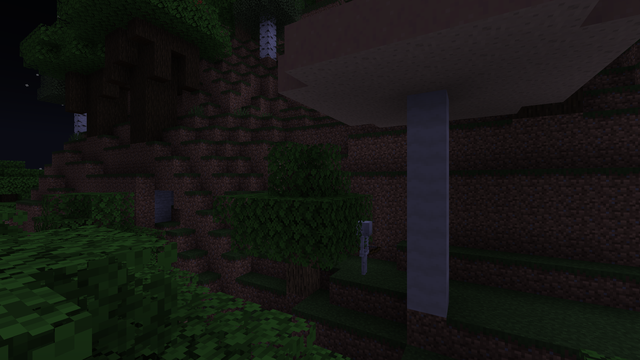squelettes: (354, 220, 374, 276)
